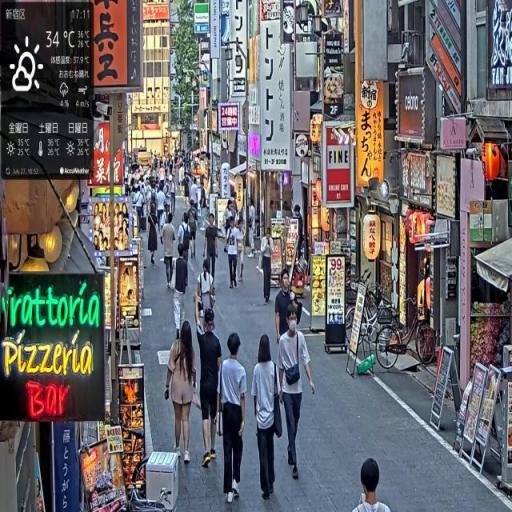person: (277, 305, 317, 484), (217, 329, 248, 508), (253, 332, 284, 506), (165, 319, 200, 466), (197, 305, 225, 471), (356, 458, 393, 512), (172, 245, 190, 340), (203, 214, 221, 287), (162, 214, 179, 291), (198, 260, 216, 329), (225, 216, 241, 291), (260, 228, 275, 305), (188, 200, 200, 261)
